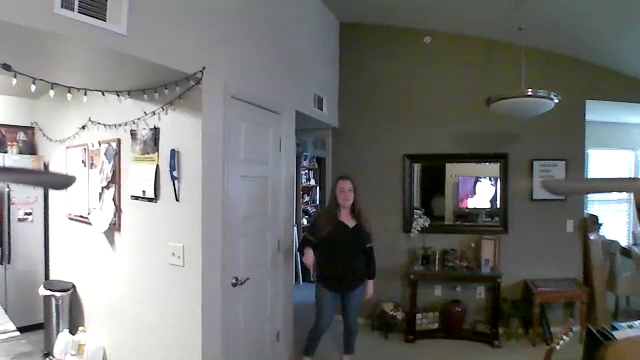down: (298, 243, 319, 281)
